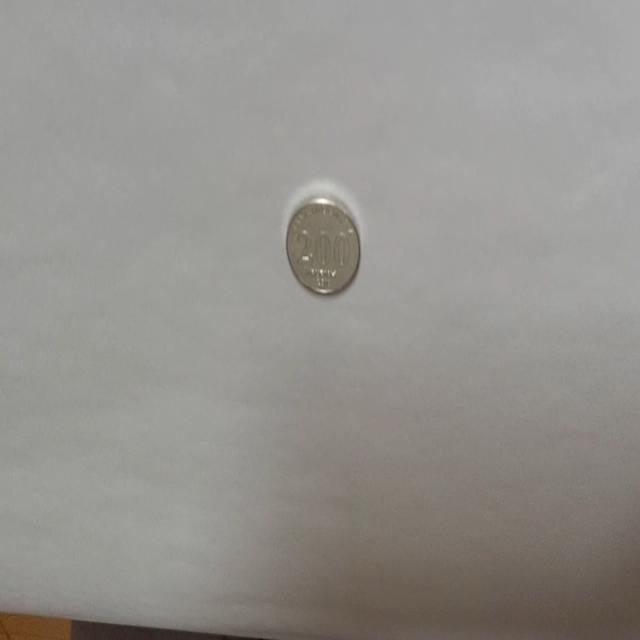dua ratus rupiah: (286, 194, 360, 297)
